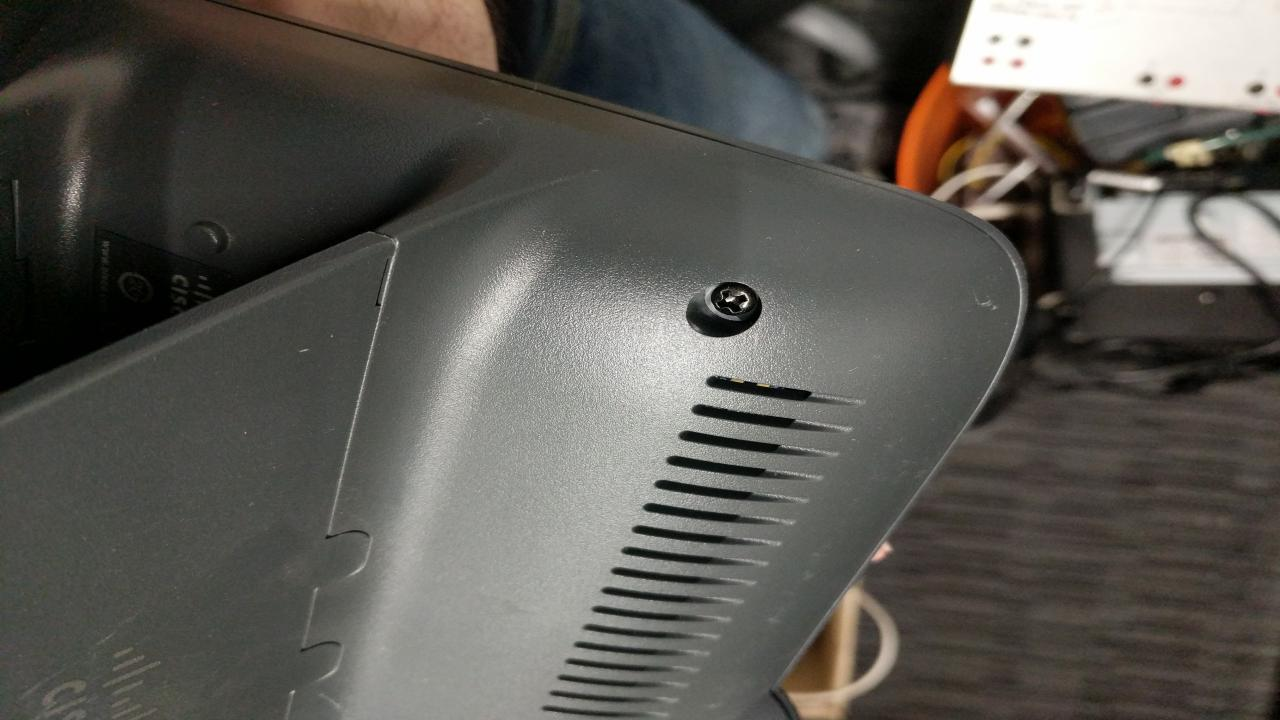CRS: (707, 282, 761, 324)
